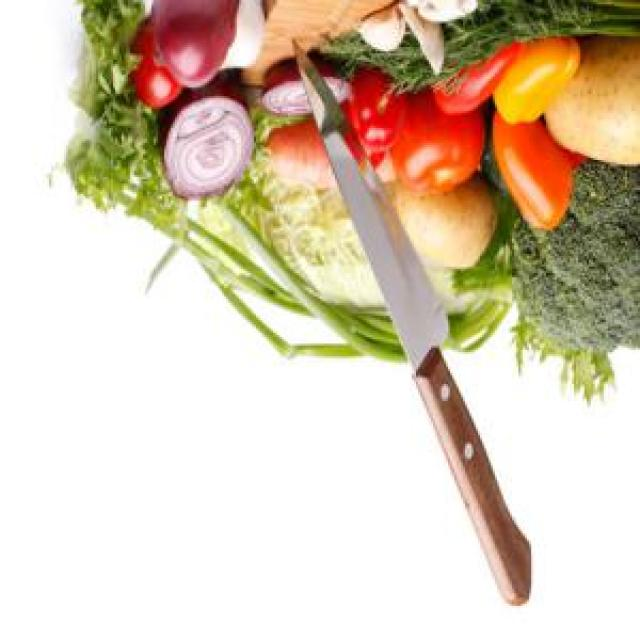knife: (288, 33, 534, 614)
